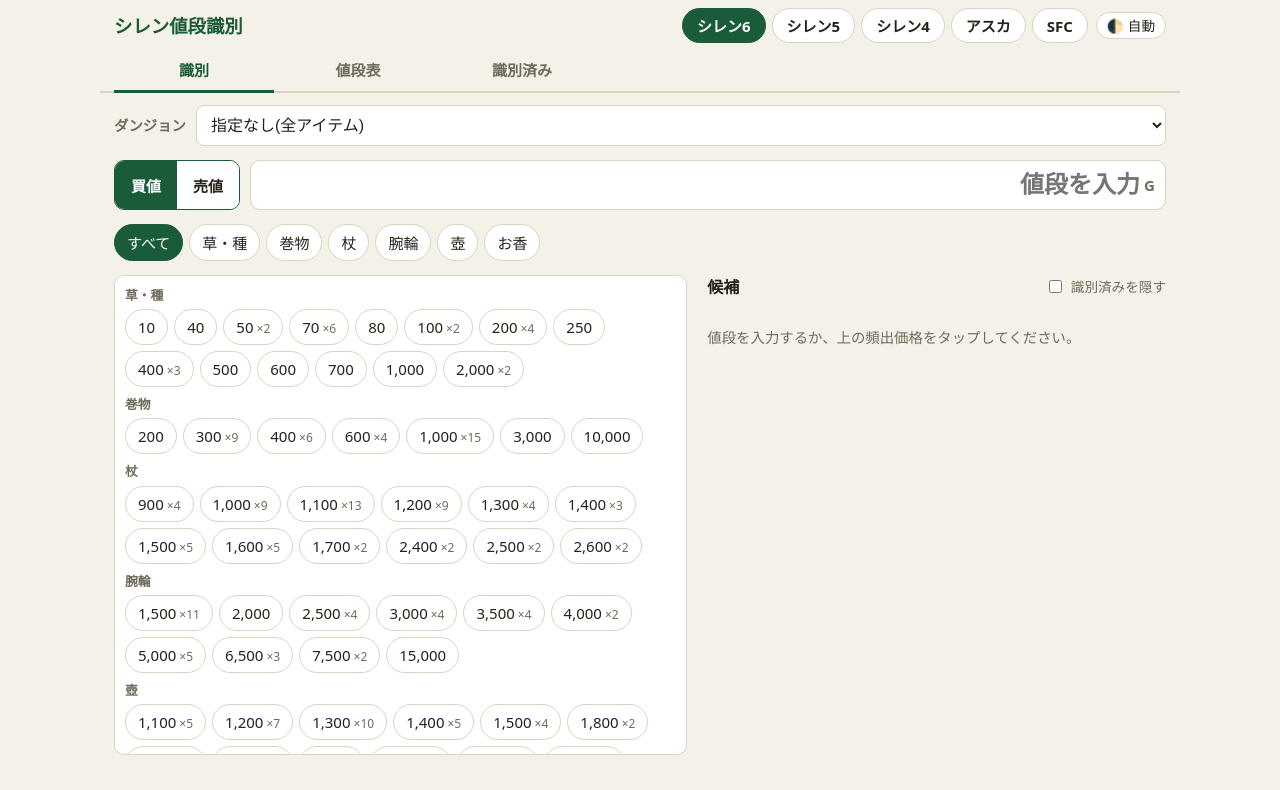
Test: App (実データでの結合テスト) › 値段表に回数幅が出る
Click the tab "値段表".
click(358, 71)  # box [278,49,438,93]
(page scrolled)
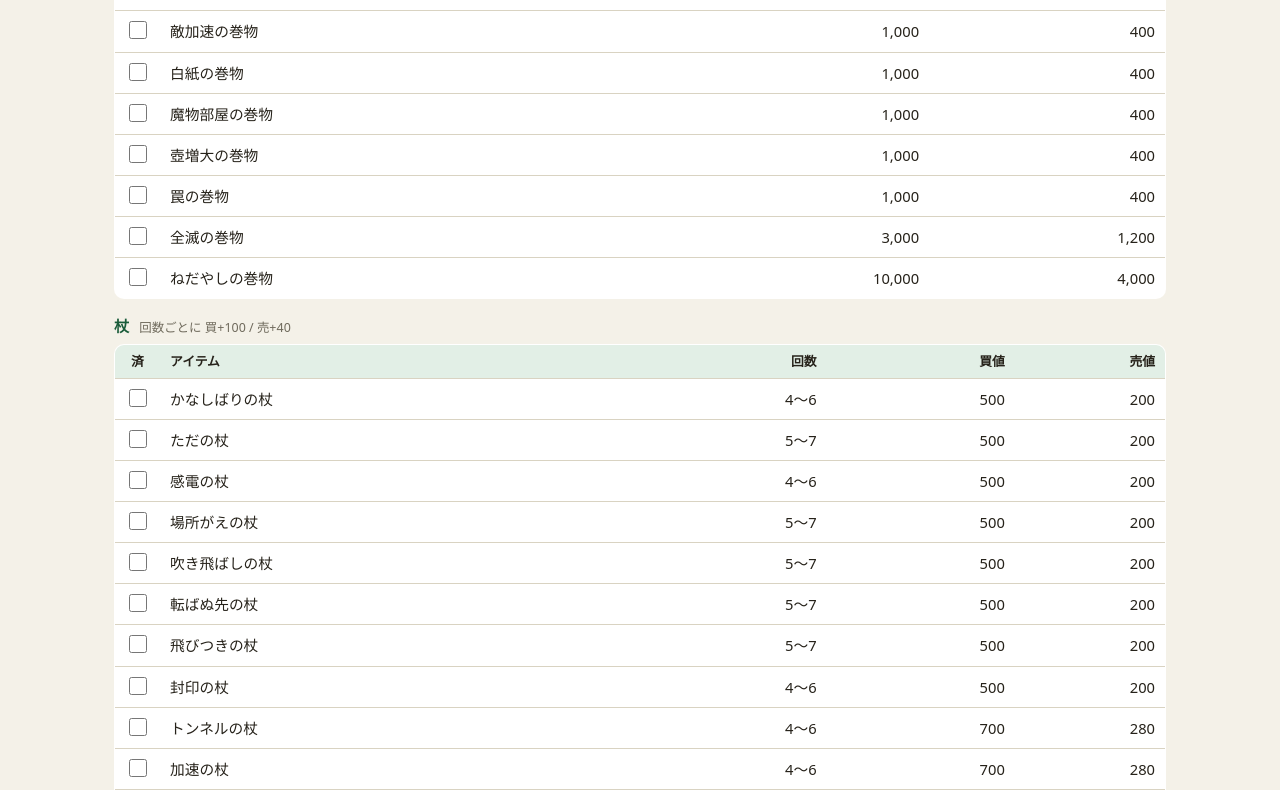
Result: the text "4〜6" in the row of "かなしばりの杖" is shown at [785,389,817,409]
Result: the cell "500" in the row of "かなしばりの杖" is shown at [980,389,1005,409]
Result: the cell "200" in the row of "かなしばりの杖" is shown at [1130,389,1155,409]
